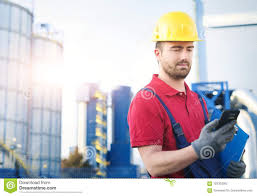Person_wearing_helmet: (148, 8, 202, 54)
